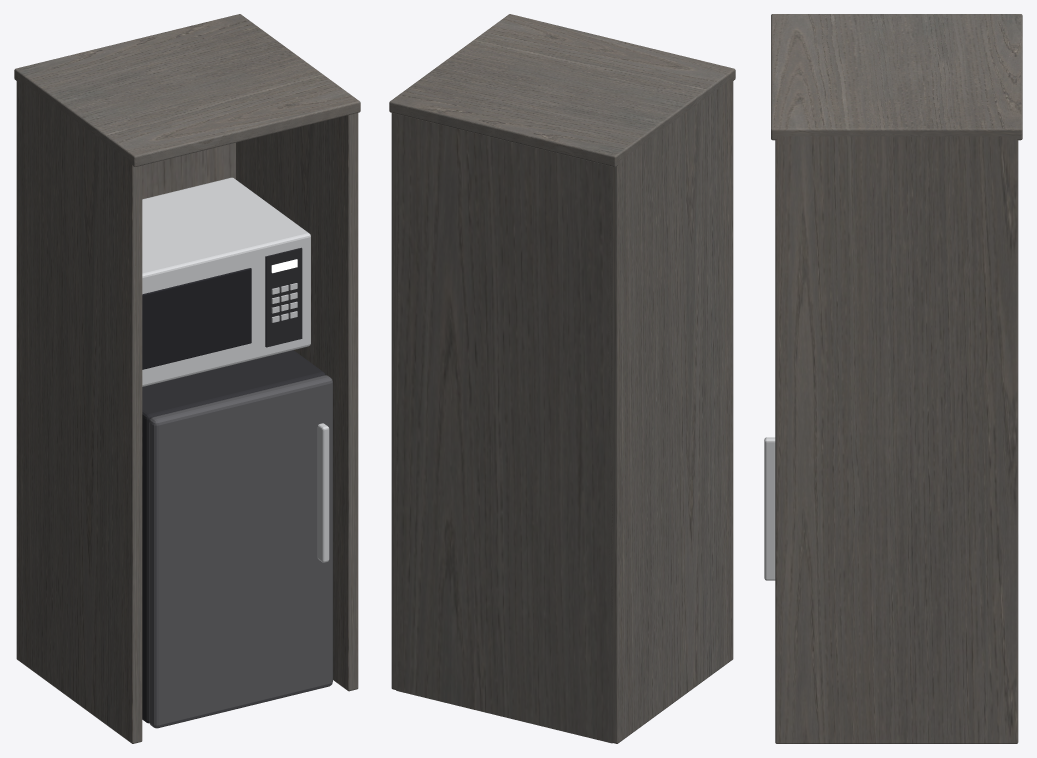
Rendered from hotel-microfridge.glb.
The picture shows the model from 3 angles, left to right: view 1: azimuth 30°, elevation 25°; view 2: azimuth 150°, elevation 25°; view 3: azimuth 270°, elevation 25°; orthographic projection. The views are drawn at different scales.
Visible parts, largest first — view 1: side, door, top, side.001, microwave, mw_window, fridge, back, mw_panel, handle; view 2: back, side, top, side.001; view 3: side.001, top, handle.
Part boxes in pixels (x1,y1,x2,y2): side: (16,78,142,743); door: (149,375,332,728); top: (14,14,360,166); side.001: (236,113,358,691); microwave: (142,177,310,386); mw_window: (142,268,251,369); fridge: (142,350,325,723); back: (142,142,235,199); mw_panel: (265,247,302,347); handle: (317,423,329,562); back: (396,114,612,743); side: (608,78,733,743); top: (389,14,735,166); side.001: (391,113,400,689); side.001: (775,136,1018,743); top: (771,14,1022,140); handle: (764,437,775,580).
Bounding box in the file's own units: 0.63 × 1.56 × 0.595.
Materials: 7 (2 with a texture image).
